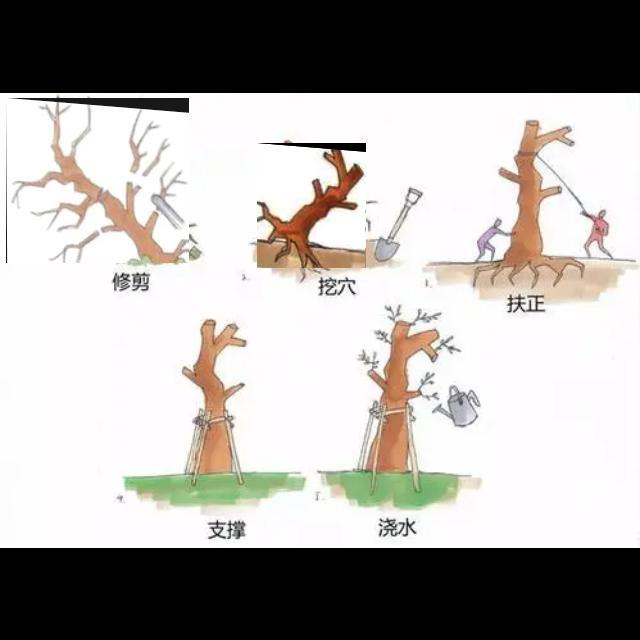fallen_tree: (6, 98, 190, 264), (257, 143, 367, 269)
